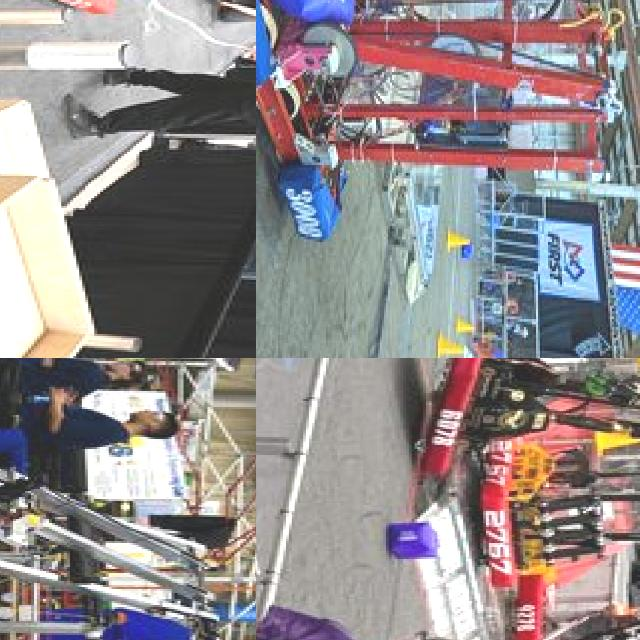FRC-Robots: (256, 0, 625, 292), (0, 358, 224, 640), (368, 358, 640, 483), (470, 449, 640, 599), (520, 581, 640, 640)
